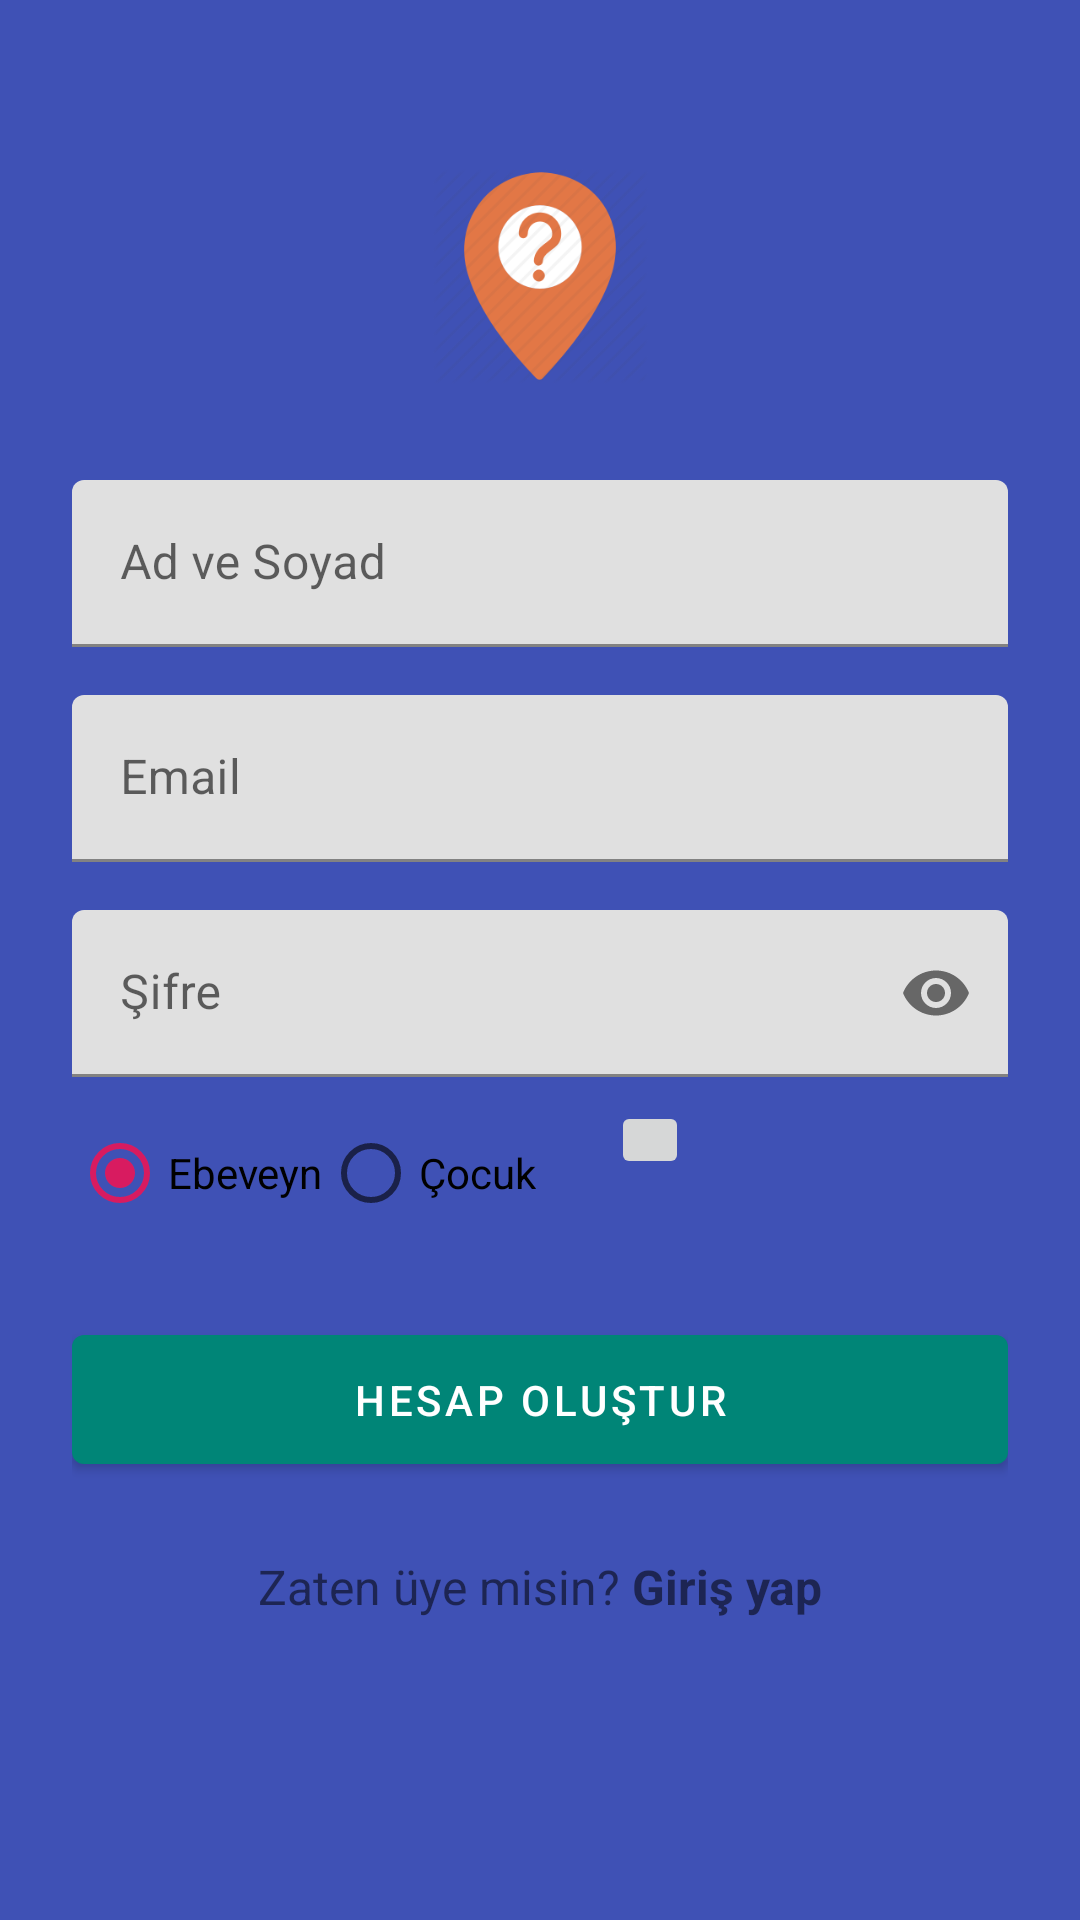

Where icons sit on this 1080×1920 app screen, as [left=x1, top=y1, right=x2, bottom=y2]:
where: [left=464, top=172, right=616, bottom=380]
